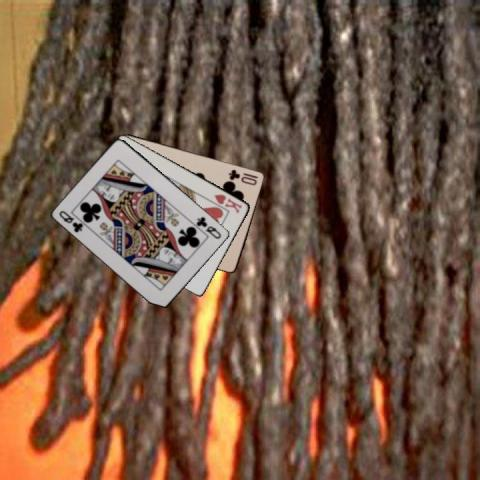10c: (226, 166, 260, 187)
Kh: (212, 191, 244, 215)
Qc: (193, 213, 223, 240), (56, 207, 84, 234)
